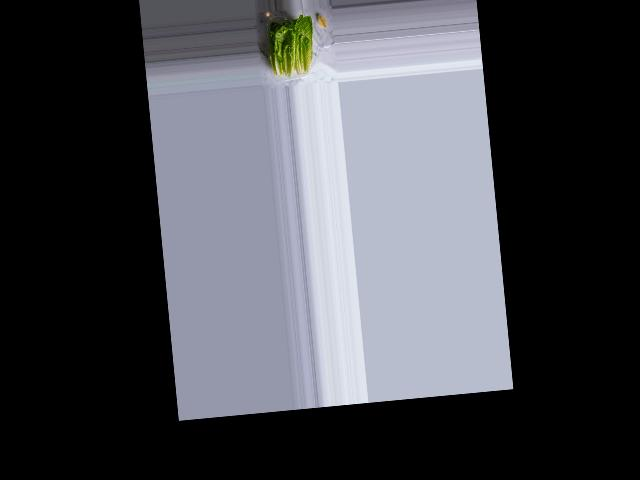lettuce: (264, 13, 319, 78)
